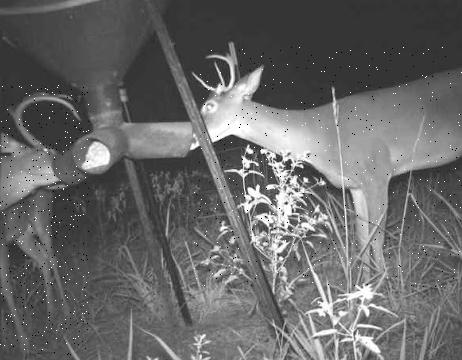Deer: (194, 47, 462, 287), (0, 85, 89, 356)
